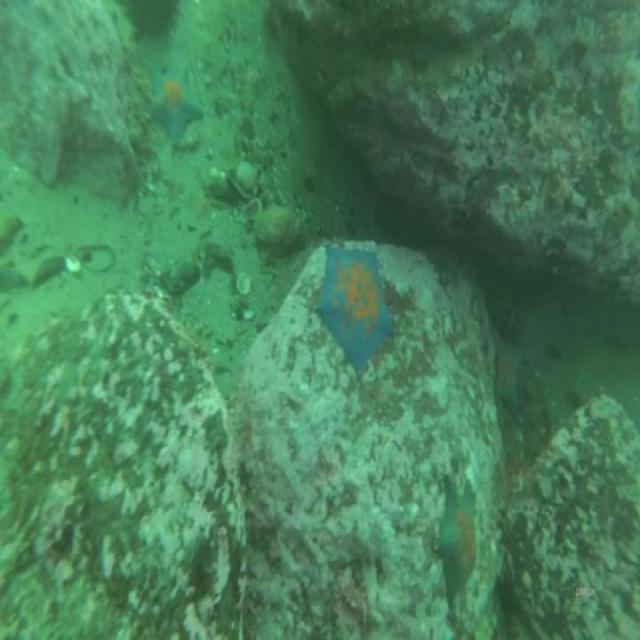echinus: (125, 1, 175, 36)
starfish: (315, 245, 393, 368), (438, 477, 478, 601), (148, 69, 204, 144), (494, 351, 521, 412)
